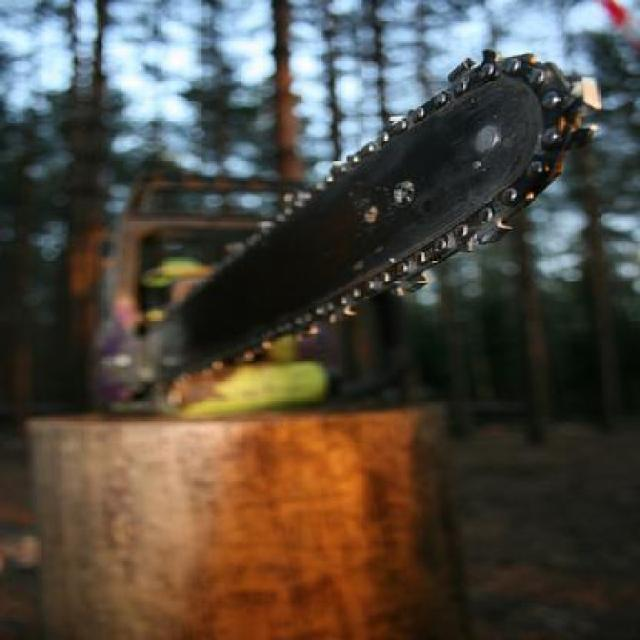Chainsaw: (51, 51, 597, 417)
